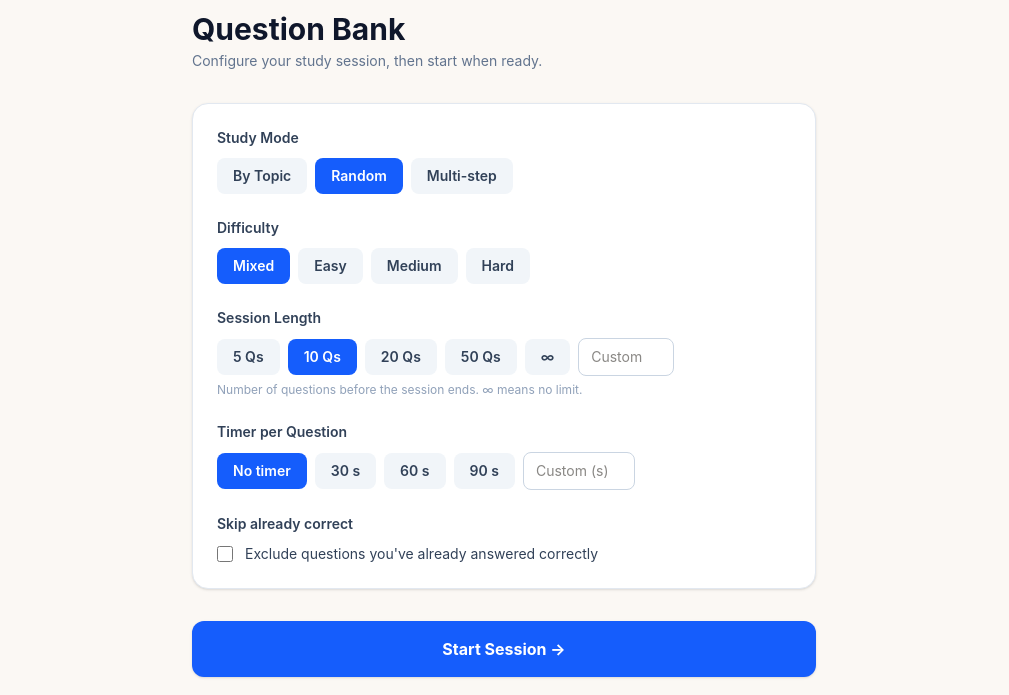
Test case: QuestionsPage › ← Settings button returns to settings screen
Click the button "Start Session →": x=504, y=649 192,621 -> 816,677
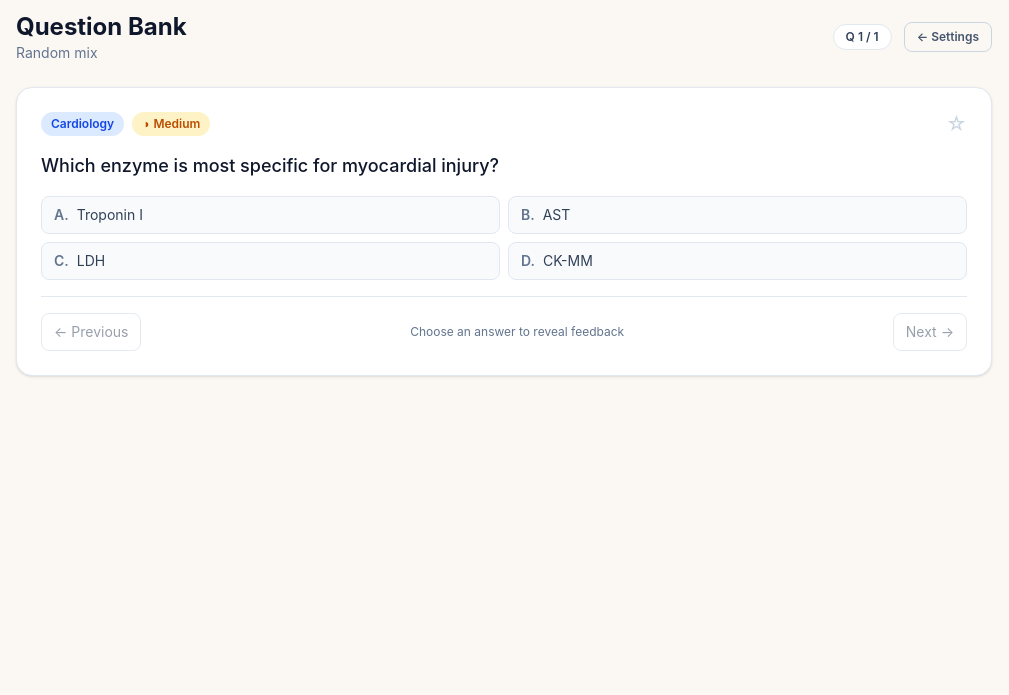
Expected: the text "Which enzyme is most specific for myocardial injury?" is shown, 41,155 -> 499,176
Click the button "← Settings": x=948, y=37 904,22 -> 992,52
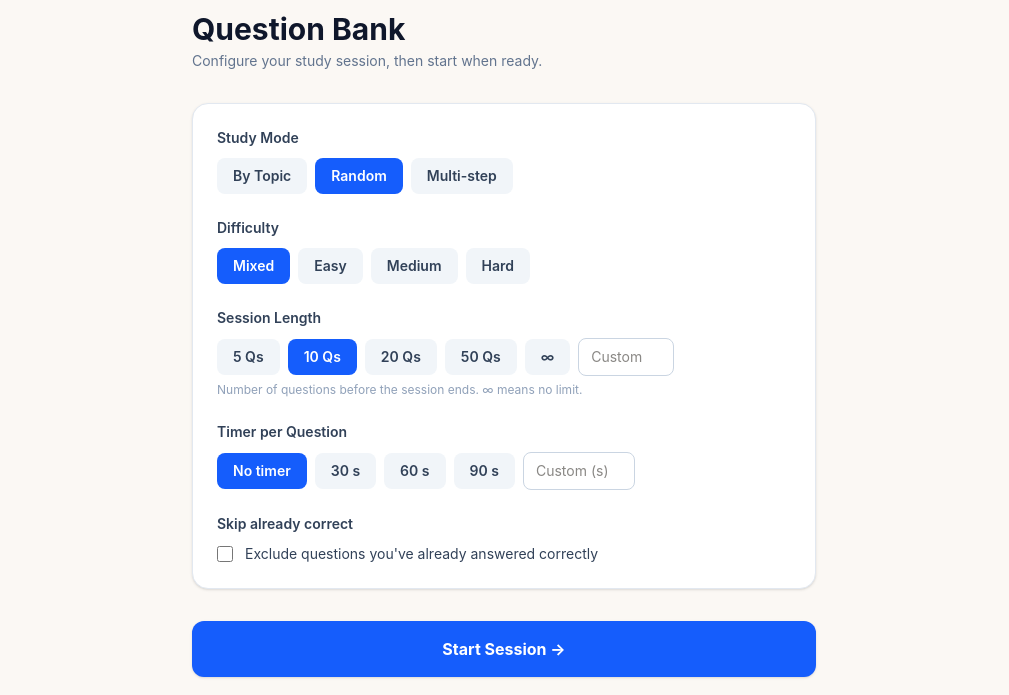
Expected: the button "Start Session →" is shown, 192,621 -> 816,677
